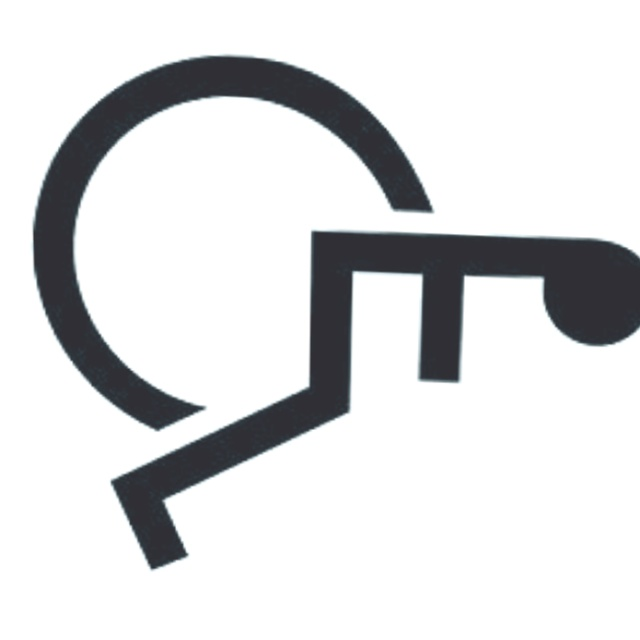ISA: (24, 43, 640, 592), (640, 43, 640, 592)
